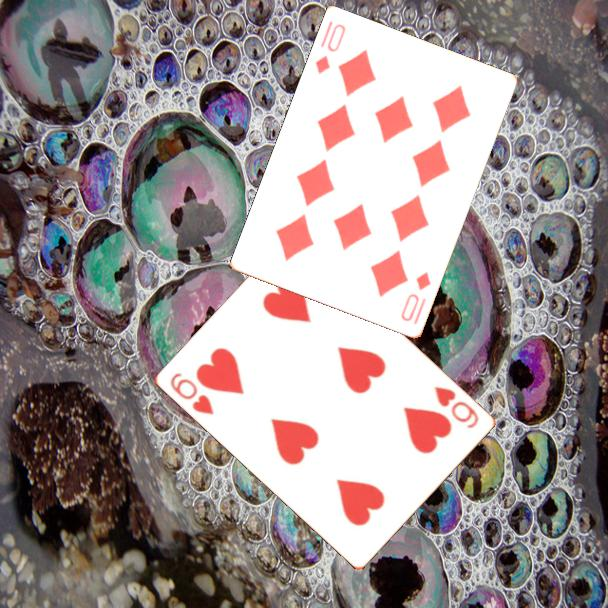d10: (312, 18, 349, 78), (397, 269, 434, 325)
h06: (167, 369, 217, 418), (431, 383, 482, 431)
